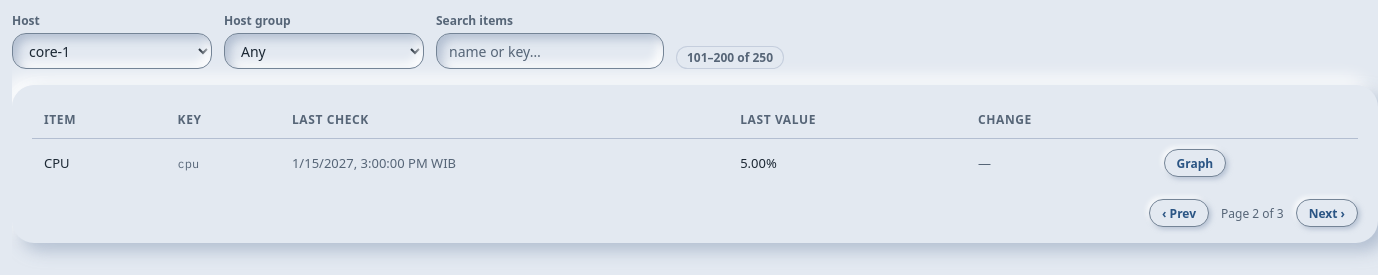
Test: the pager on Latest data › names the page and how many there are, and Next asks for the page after
The image size is (1378, 275).
Expected: the button "‹ Prev" is enabled, left=1149, top=199, right=1209, bottom=227
Click the button "Next ›": click(1327, 213) left=1296, top=199, right=1358, bottom=227
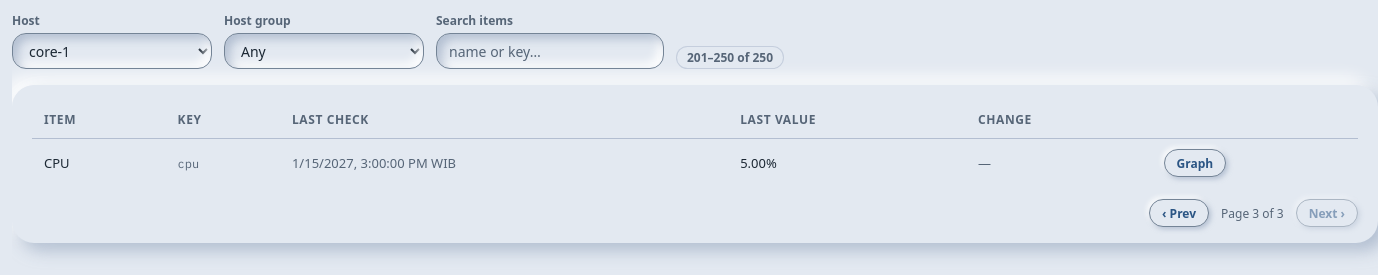
Expected: the text "Page 3 of 3" is shown, left=1221, top=204, right=1284, bottom=222
Expected: the button "Next ›" is disabled, left=1296, top=199, right=1358, bottom=227
